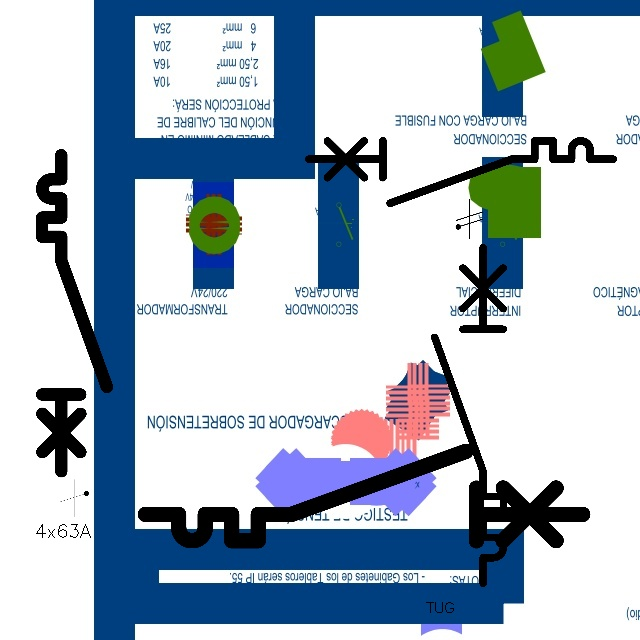interruptor_termomagnetico: (134, 440, 594, 552), (426, 238, 512, 591), (34, 147, 115, 479), (301, 133, 621, 211)
